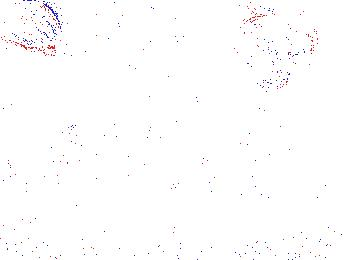moon jellyfish: (81, 94, 165, 163), (95, 3, 176, 72), (232, 15, 295, 91), (1, 1, 63, 54), (252, 12, 319, 55)
